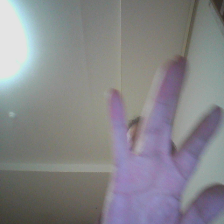hand: (106, 51, 223, 221)
